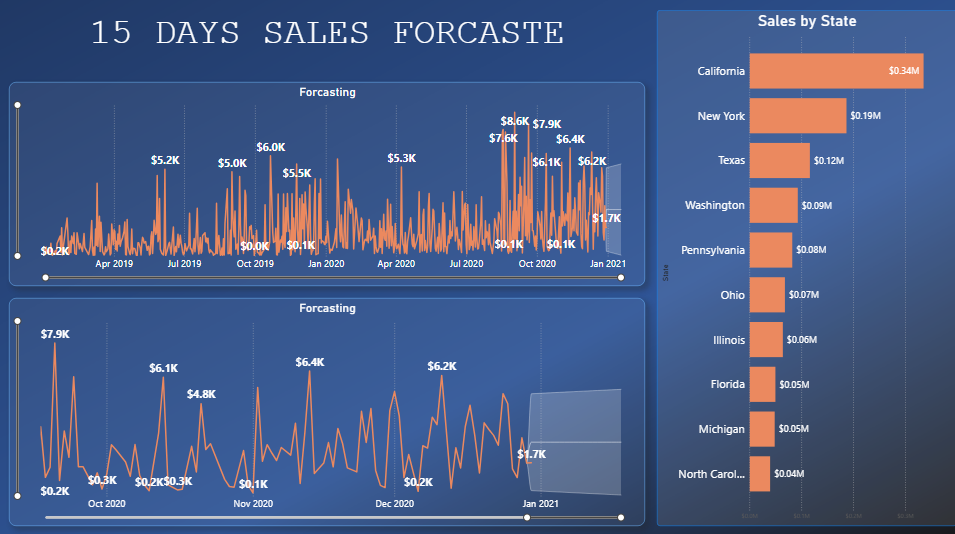

Layout of this report page (visuals, bound fields, positions):
{"tool":"powerbi","page":{"name":"Page 2","canvas":[1920,1080],"ordinal":1},"visuals":[{"type":"lineChart","title":"Forcasting","fields":{"Y":["_Measures.Total Sales"],"Category":["SuperStore_Sales_Dataset.Order Date.Variation.Date Hierarchy.Year","SuperStore_Sales_Dataset.Order Date.Variation.Date Hierarchy.Quarter","SuperStore_Sales_Dataset.Order Date.Variation.Date Hierarchy.Month","SuperStore_Sales_Dataset.Order Date.Variation.Date Hierarchy.Day"]},"box":[24,168,1272,408],"z":0},{"type":"lineChart","title":"Forcasting","fields":{"Y":["_Measures.Total Sales"],"Category":["SuperStore_Sales_Dataset.Order Date.Variation.Date Hierarchy.Year","SuperStore_Sales_Dataset.Order Date.Variation.Date Hierarchy.Quarter","SuperStore_Sales_Dataset.Order Date.Variation.Date Hierarchy.Month","SuperStore_Sales_Dataset.Order Date.Variation.Date Hierarchy.Day"]},"box":[24,600,1272,456],"z":1},{"type":"textbox","box":[24,24,1272,120],"z":2},{"type":"clusteredBarChart","title":"Sales by State","fields":{"Y":["_Measures.Total Sales"],"Category":["SuperStore_Sales_Dataset.State"]},"box":[1320,24,600,1032],"z":3}]}

Visuals, with their boxes in screenshot pixels (x1, y1, x2, y2), scaled from the page's 1920x1080 canvas onto the 955x534 screenshot:
"Forcasting" lineChart: <bbox>12, 83, 645, 285</bbox>
"Forcasting" lineChart: <bbox>12, 297, 645, 522</bbox>
textbox: <bbox>12, 12, 645, 71</bbox>
"Sales by State" clusteredBarChart: <bbox>657, 12, 954, 522</bbox>
